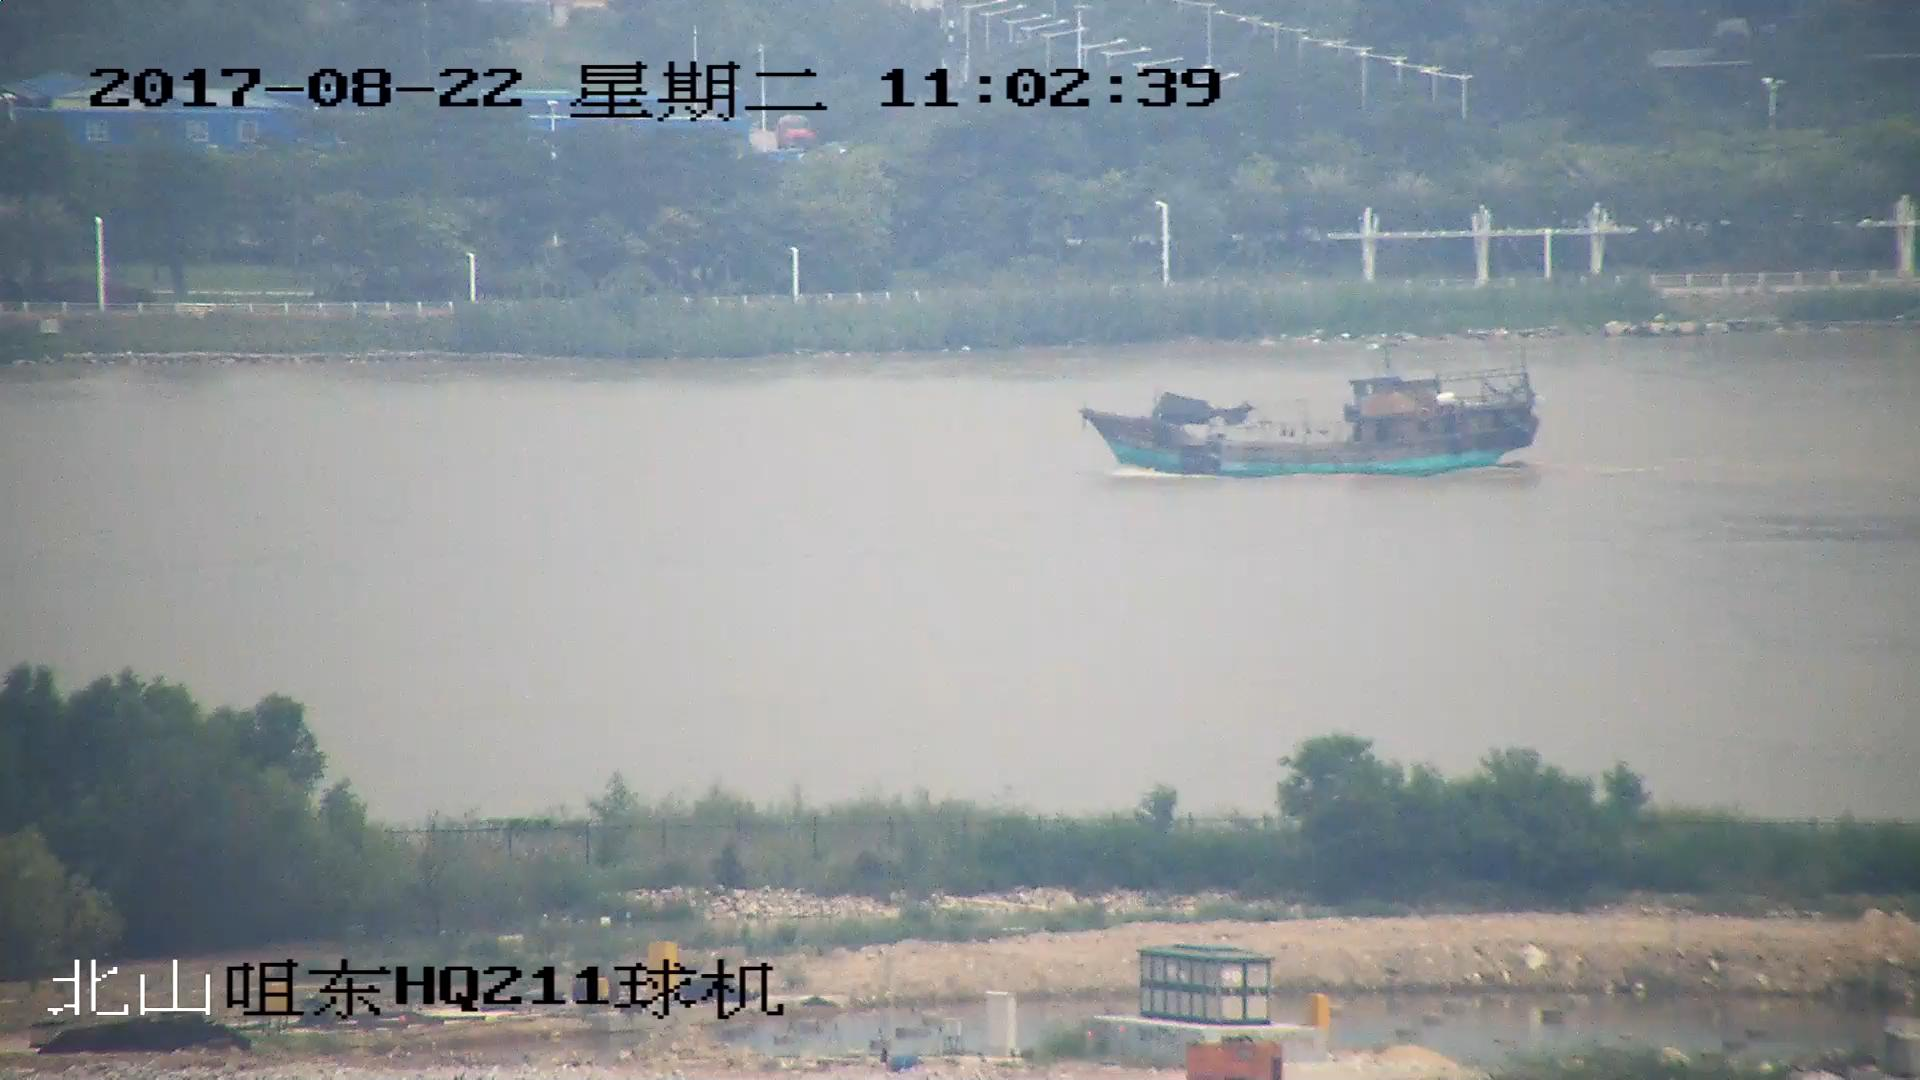fishing boat: (1085, 365, 1537, 477)
